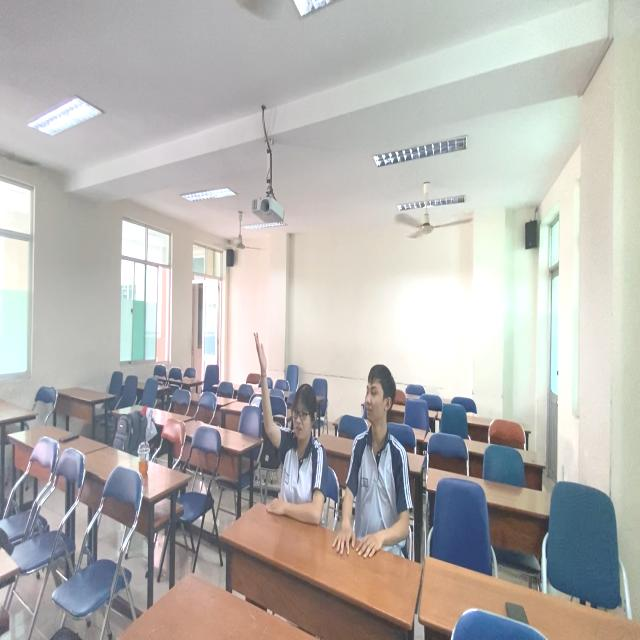raise_hand: (250, 328, 326, 517)
